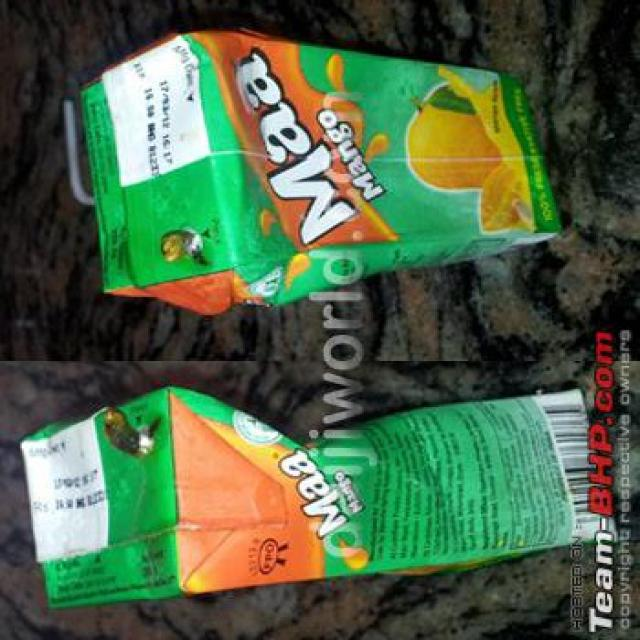non_white_jug: (68, 28, 566, 291), (28, 384, 607, 591)
